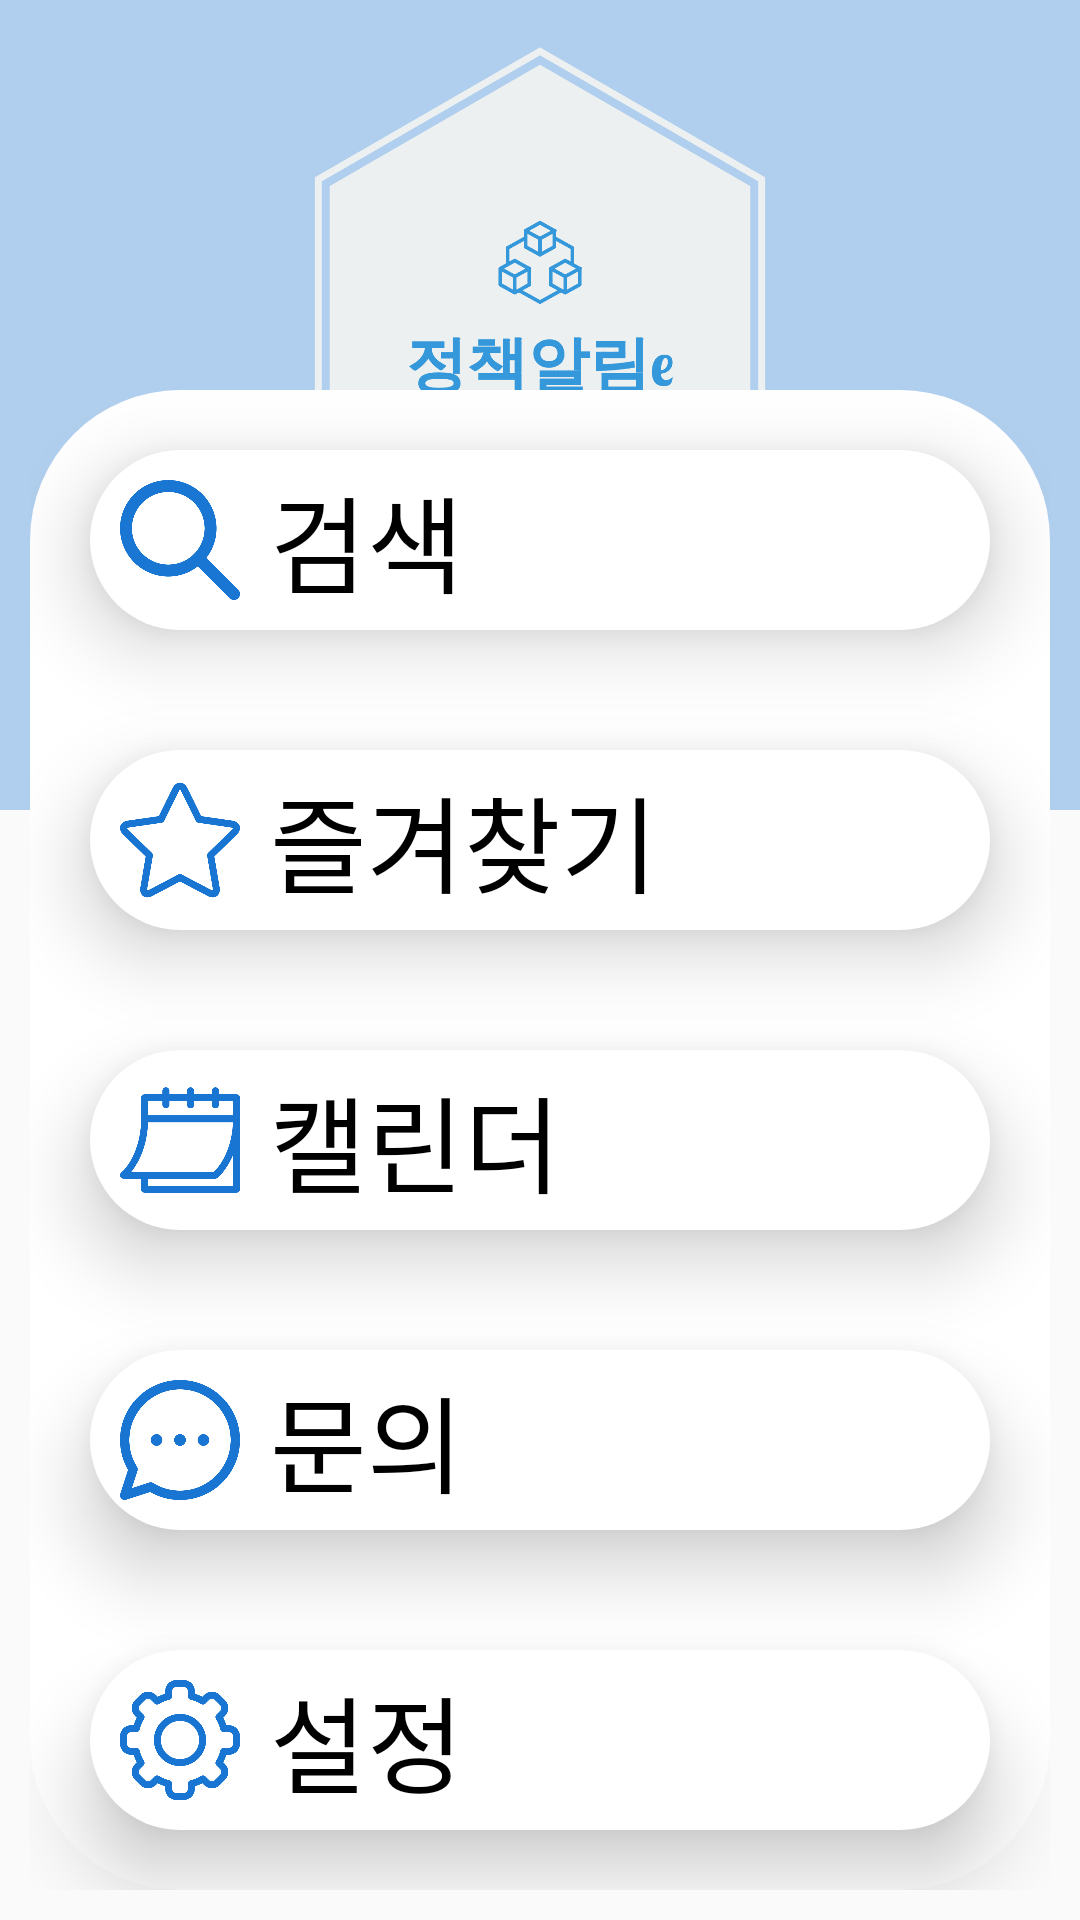

Icons on this 1080px×1920px Android screen, each with the point to tap as (x,y):
calender: (180,1140)
chatbot: (180,1440)
favorite: (180,840)
search: (180,540)
setting: (180,1740)
